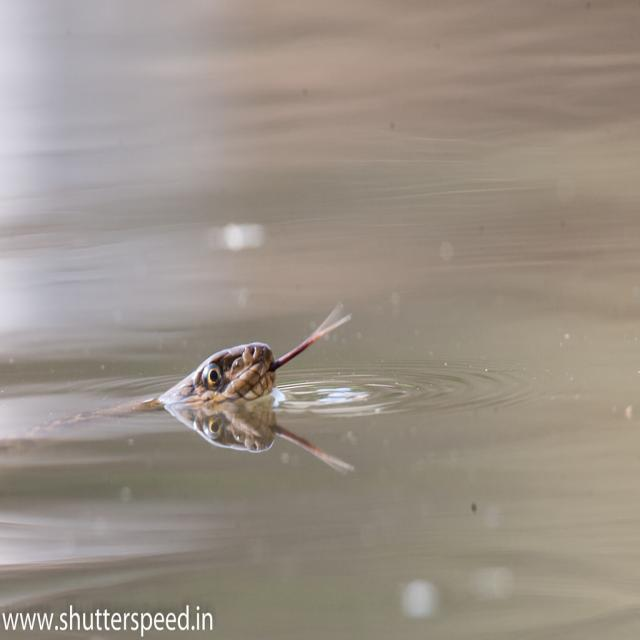Snake: (38, 290, 360, 440)
